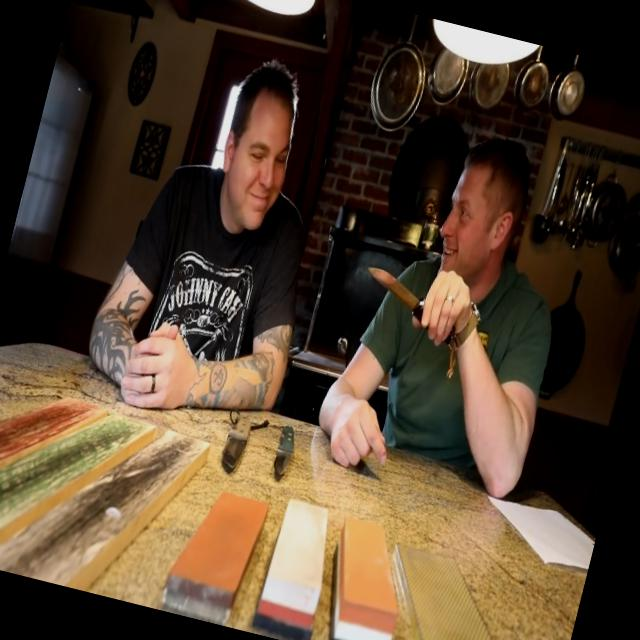knife: (348, 234, 466, 348)
